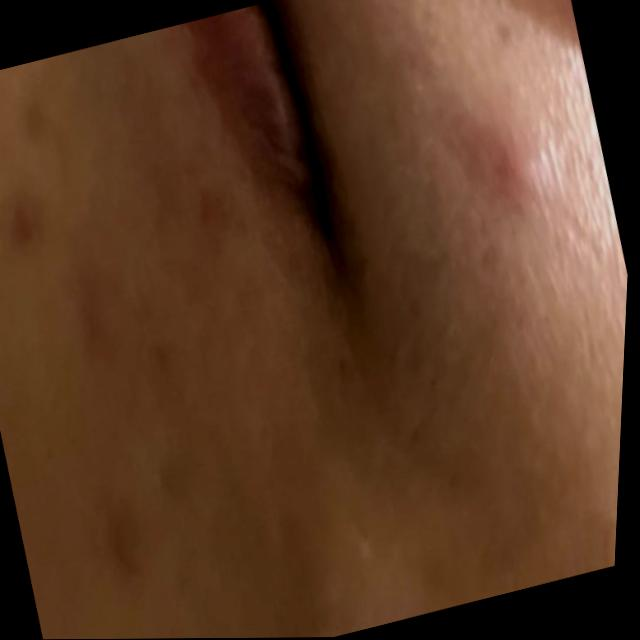papule: (462, 99, 557, 273)
